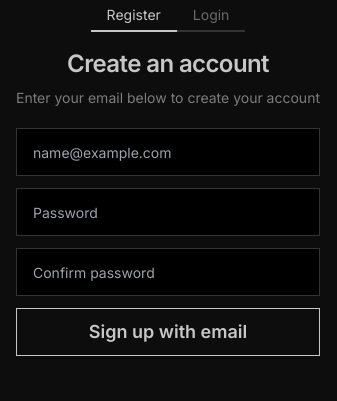
AuthForm › should fail on attempt to register with an already registered email
The image size is (337, 401).
Expected: the heading "Create an account" is shown, x1=67 y1=49 x2=269 y2=78
Type "iam@teapot.com" into the field named "register email input".
click(168, 152); type("iam@teapot.com")  # box x1=16 y1=128 x2=320 y2=176
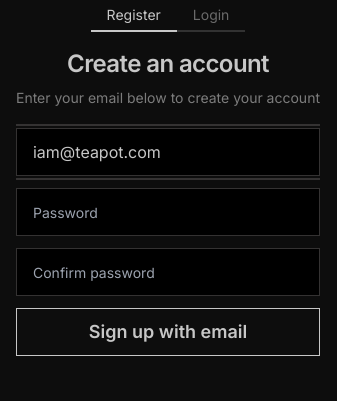
Type "password" into the password field named "register password input".
click(168, 212); type("password")  # box x1=16 y1=188 x2=320 y2=236
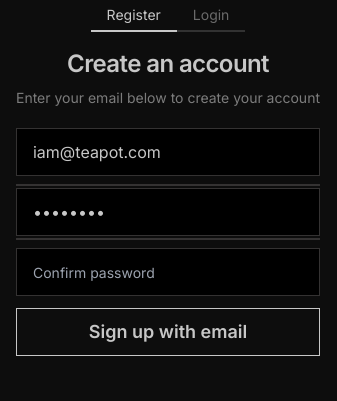
Type "password" into the password field named "register confirm password input".
click(168, 272); type("password")  # box x1=16 y1=248 x2=320 y2=296
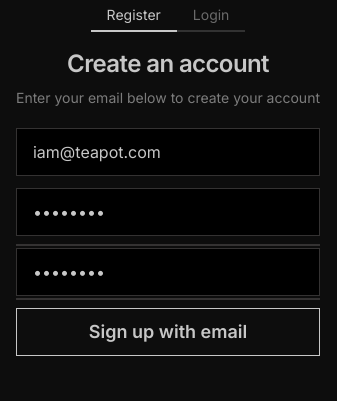
Click the button "Sign up with email".
click(168, 332)  # box x1=16 y1=308 x2=320 y2=356
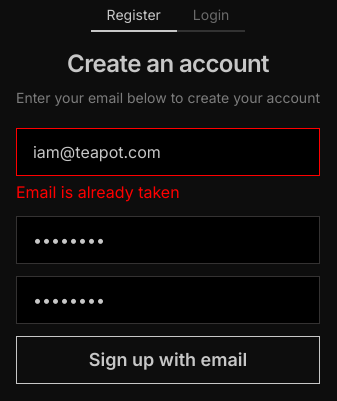
Expected: the text "Email is already taken" is shown, x1=16 y1=182 x2=180 y2=202
